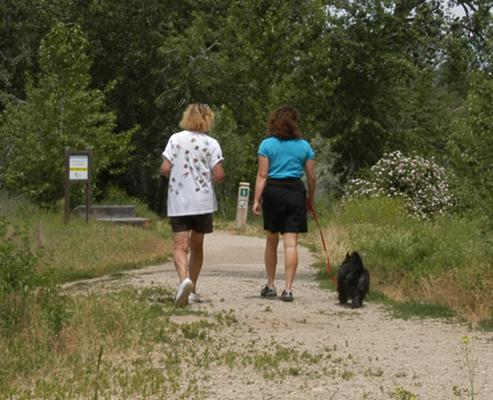person: (254, 105, 315, 300)
